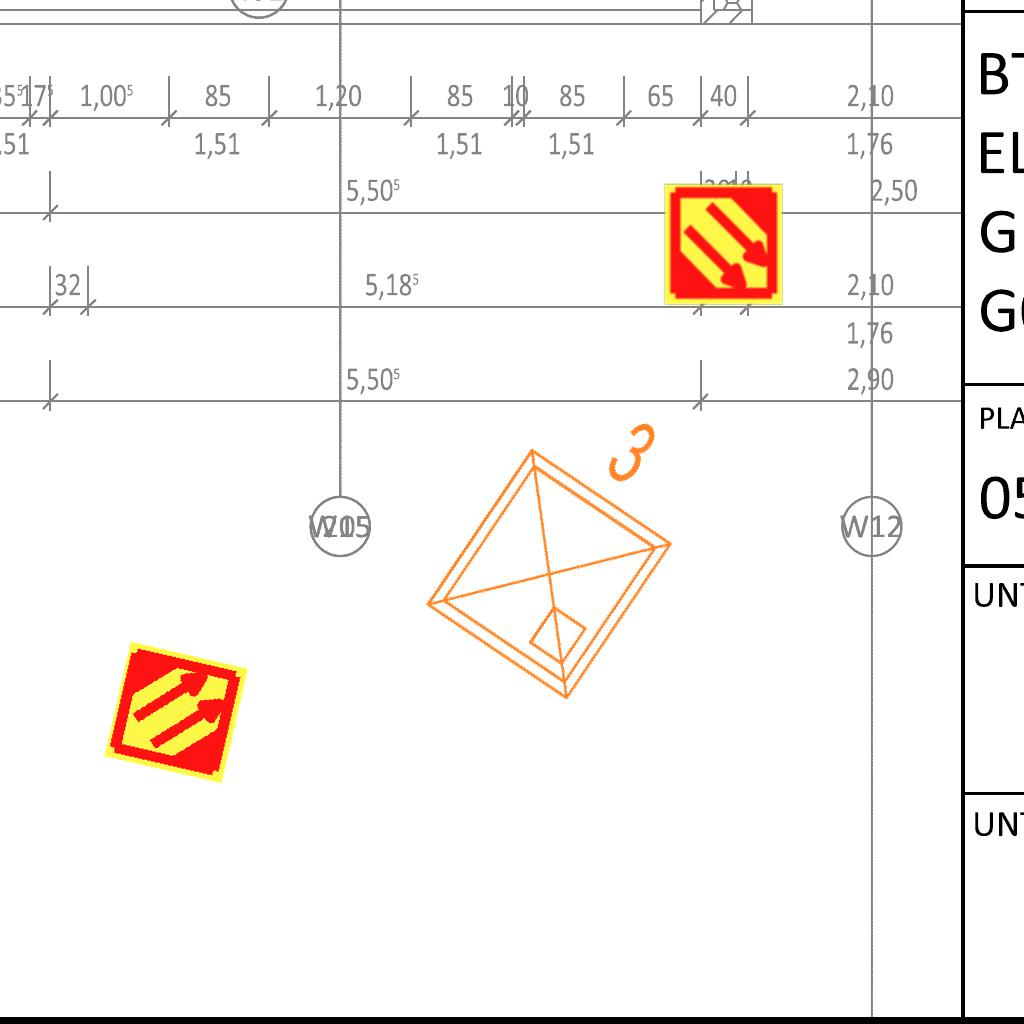ASR_Ansaugrauchmelder: (101, 637, 252, 788), (661, 182, 786, 307)
Einbaudownlights_LED_Konferenzraeume: (398, 355, 740, 721)
